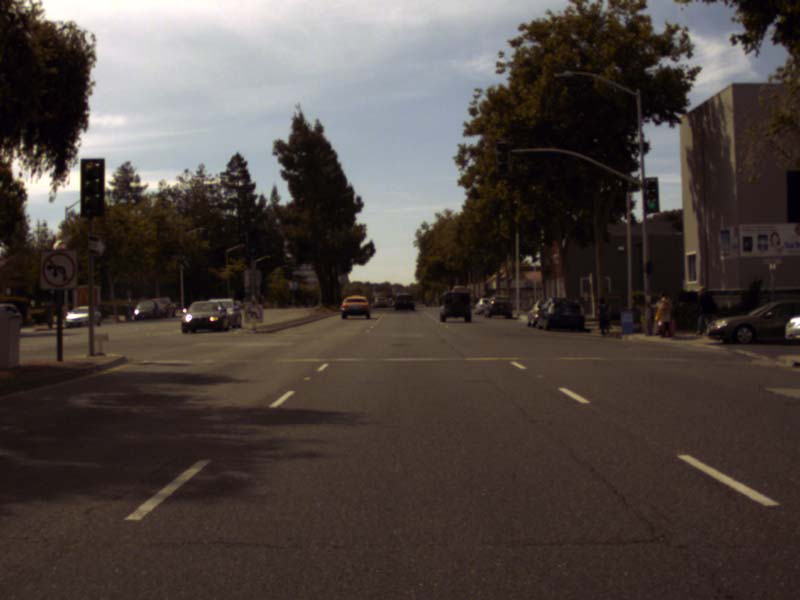Green: (642, 177, 659, 211), (244, 229, 259, 255)
